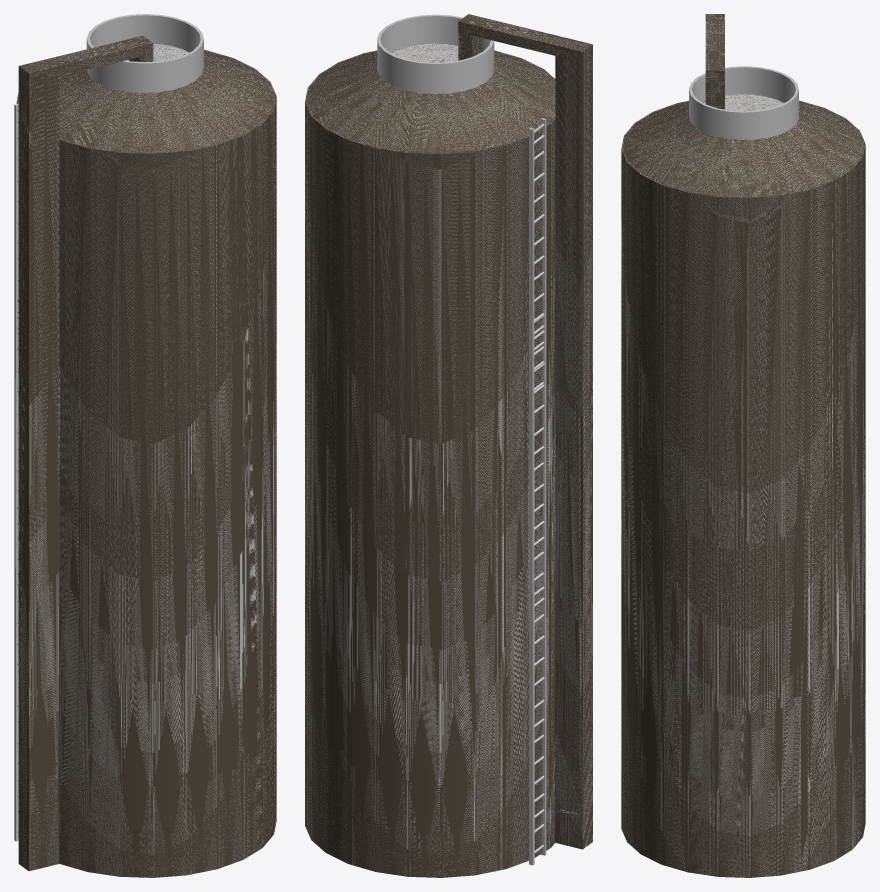
The picture shows the model from 3 angles, left to right: view 1: azimuth 30°, elevation 25°; view 2: azimuth 150°, elevation 25°; view 3: azimuth 270°, elevation 25°; orthographic projection. The views are drawn at different scales.
Parts seen in each view (by area): view 1: mesh156_mesh156-geometry, mesh50_mesh50-geometry, mesh14_mesh14-geometry; view 2: mesh156_mesh156-geometry, mesh50_mesh50-geometry, mesh14_mesh14-geometry, mesh17_mesh17-geometry; view 3: mesh156_mesh156-geometry, mesh50_mesh50-geometry.
Part boxes in pixels (bbox=[...]): mesh156_mesh156-geometry: bbox=[16, 35, 276, 877]; mesh50_mesh50-geometry: bbox=[86, 14, 203, 93]; mesh14_mesh14-geometry: bbox=[14, 103, 18, 841]; mesh156_mesh156-geometry: bbox=[305, 14, 592, 877]; mesh50_mesh50-geometry: bbox=[377, 14, 494, 94]; mesh14_mesh14-geometry: bbox=[528, 128, 534, 865]; mesh17_mesh17-geometry: bbox=[540, 118, 546, 855]; mesh156_mesh156-geometry: bbox=[621, 14, 865, 877]; mesh50_mesh50-geometry: bbox=[689, 66, 798, 139].
Bounding box in the file's own units: 0.3 × 0.915 × 0.2697.
